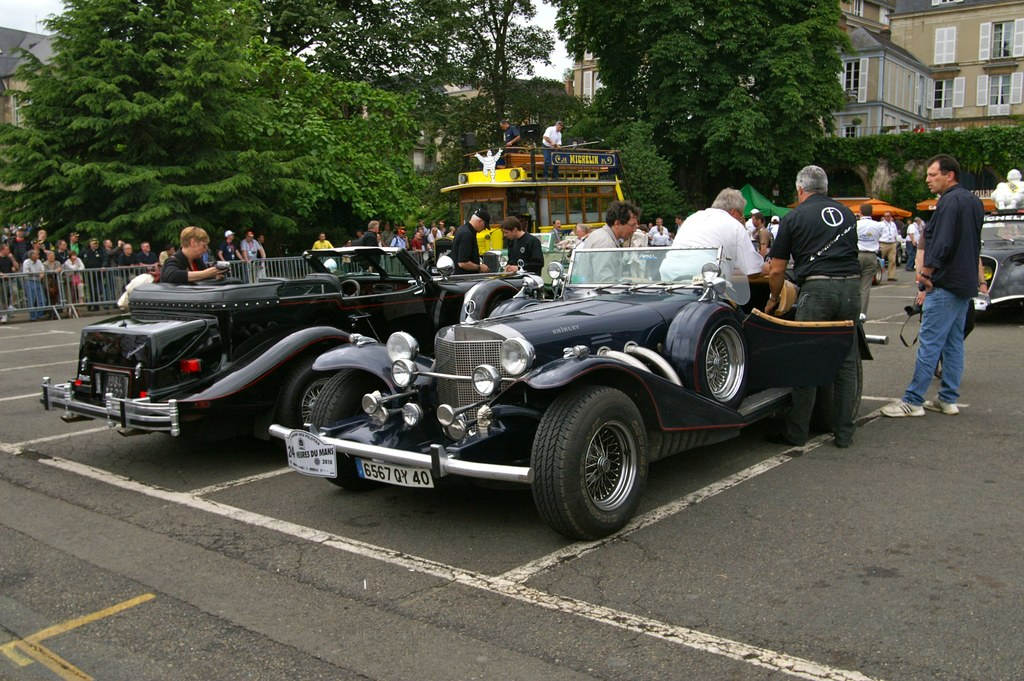Car: (263, 245, 890, 544), (35, 240, 549, 451), (978, 200, 1023, 312)
